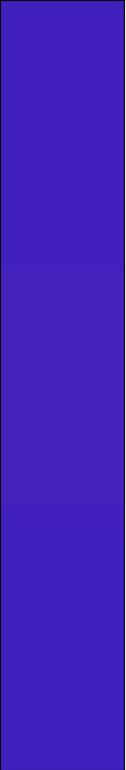safe: (6, 9, 123, 761)
